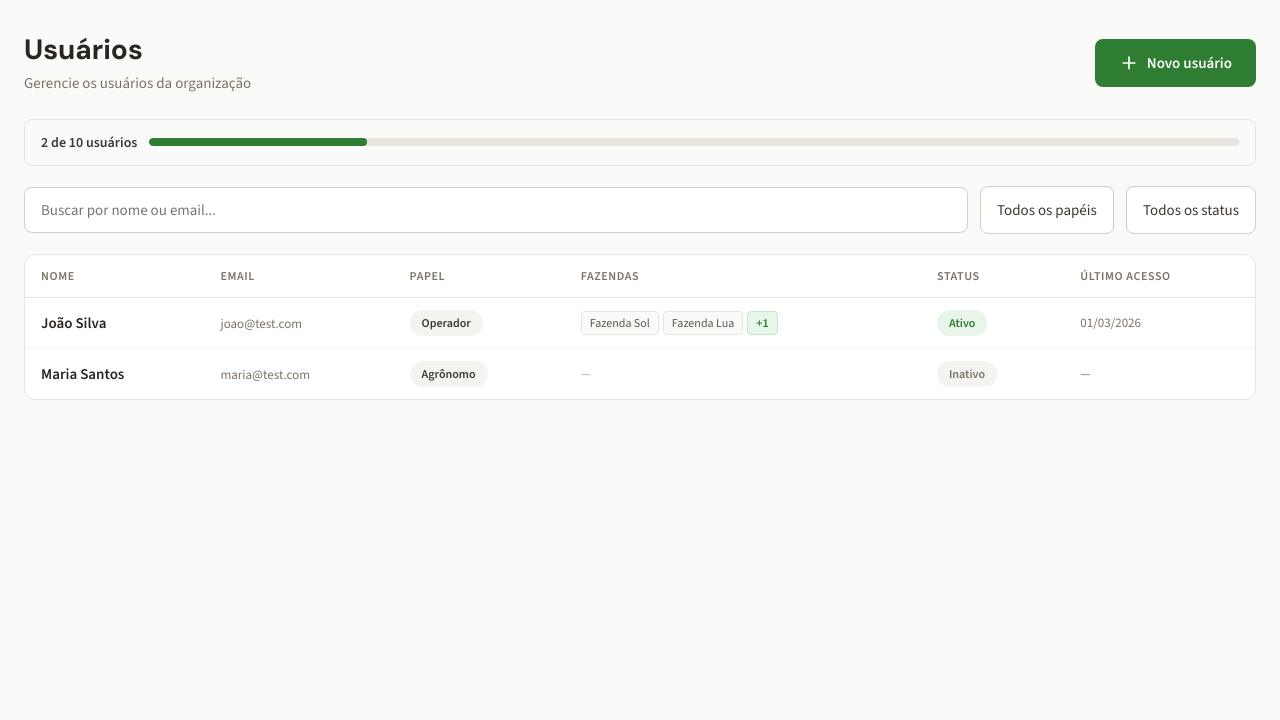
Test: OrgUsersPage › should open detail modal when clicking a row
Click the button with aria-label "Ver detalhes de João Silva". click: (640, 323)
box: [25, 297, 1255, 348]
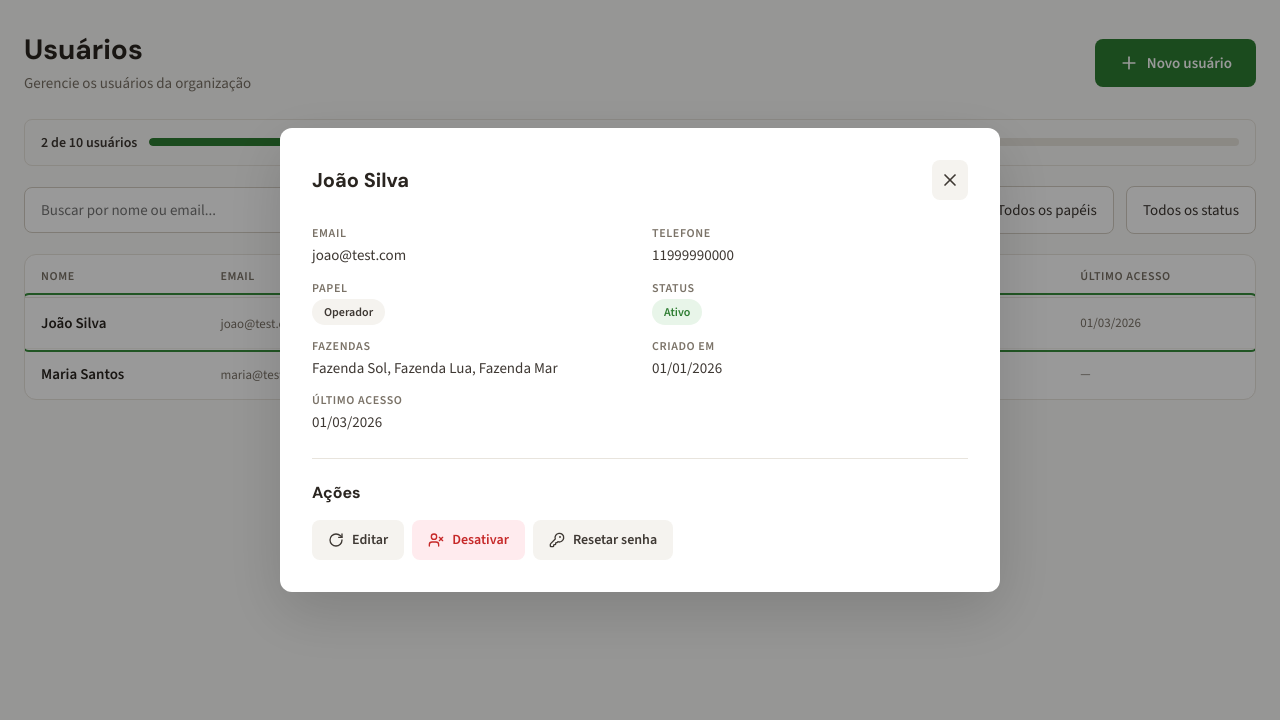
Check: the heading "Ações" is shown, box [312, 482, 361, 503]
Check: the button "Editar" is shown, box [312, 520, 404, 560]
